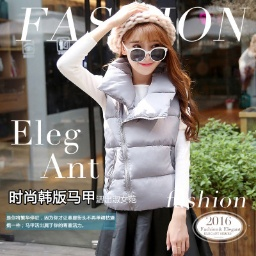face: (112, 17, 201, 141)
